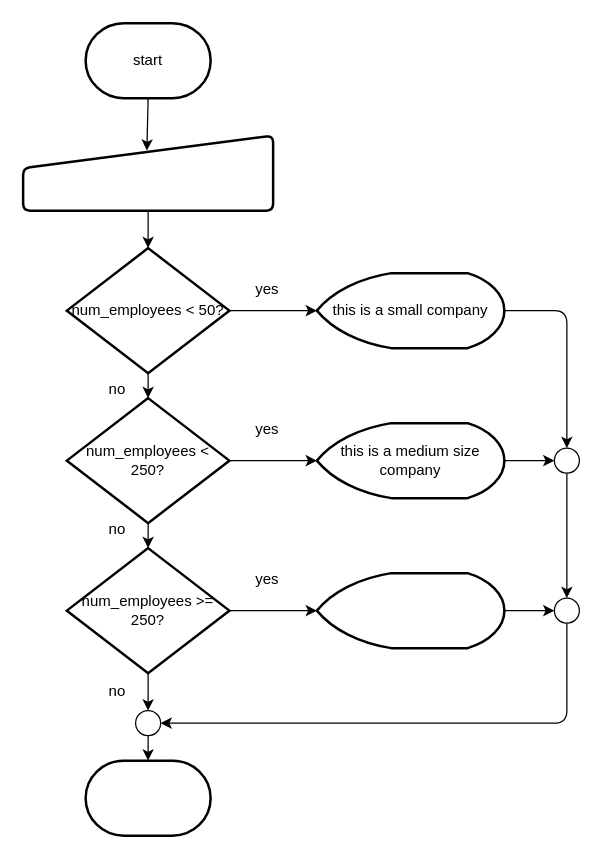
This 601x858 diagram has some shape labels left out. Here are the shapes that lost their labels. From the top down, the centre of each, then its label:
At pixel 147 172: "enter the number of employeesnum_employees".
At pixel 410 610: "this is a large company".
At pixel 147 797: "stop".
